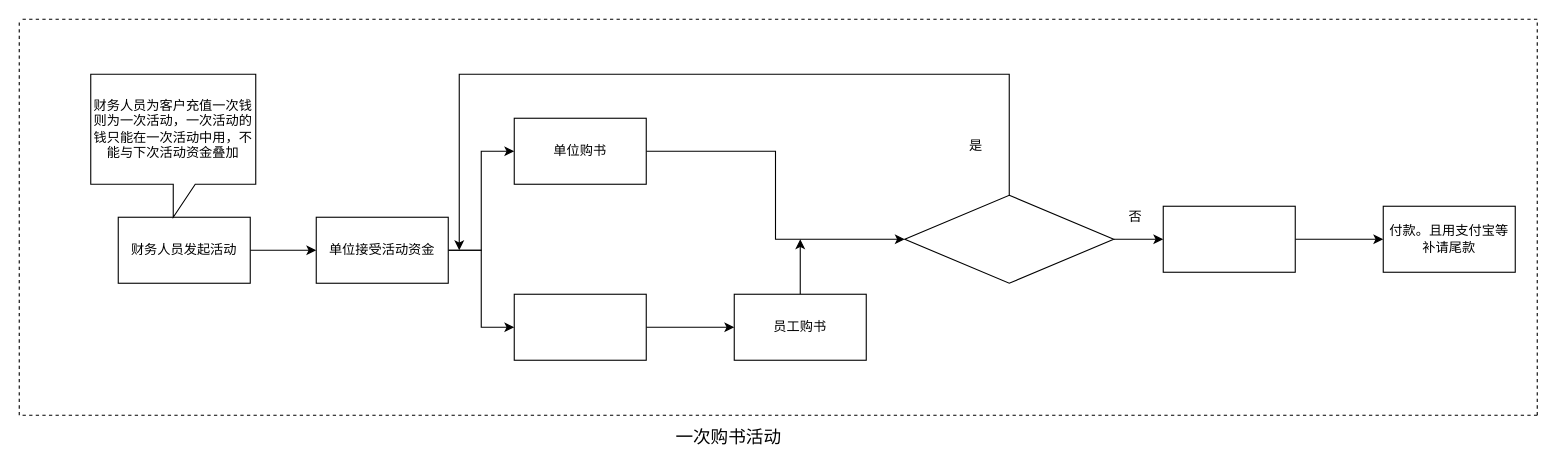
Image size: 1558x468. Some labels were removed from this diagram. Each missing label, with the box of its shape:
单位分配资金: (513, 293, 646, 360)
客户经理审核: (1162, 205, 1295, 272)
是否超出所设百分比额度: (904, 194, 1114, 283)
